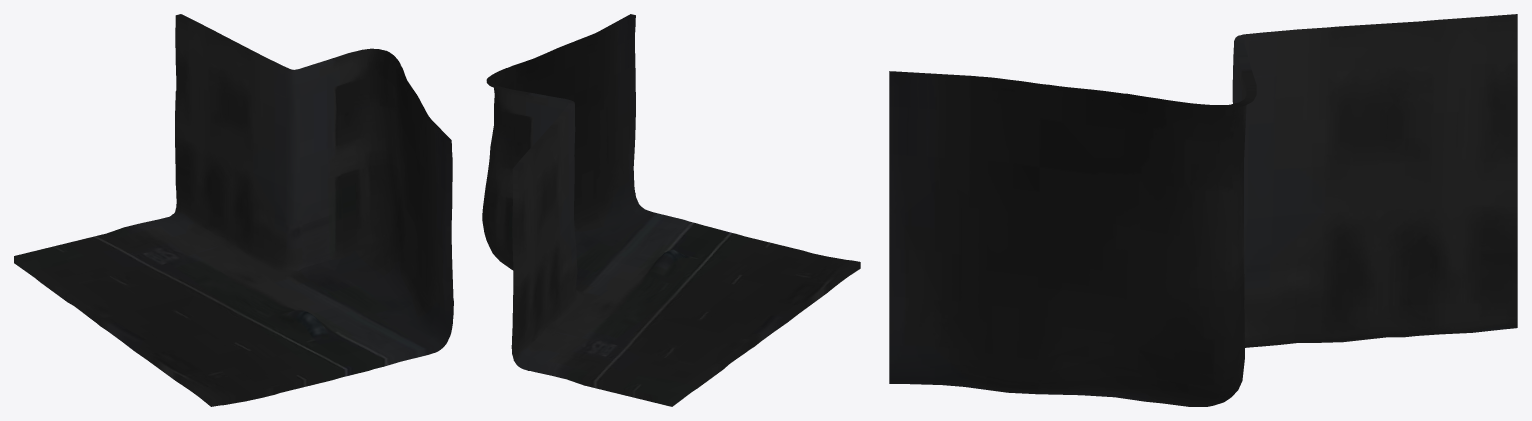
File: z20-167777-405231-h0-yup-uvflip-v3-world.glb
3 renders of one model, left to right at view 1: azimuth 30°, elevation 25°; view 2: azimuth 150°, elevation 25°; view 3: azimuth 270°, elevation 25°, orthographic. The views are drawn at different scales.
Size of the model in its own units: 25.72 by 17.92 by 30.32.
Materials: 1 (1 with a texture image).
